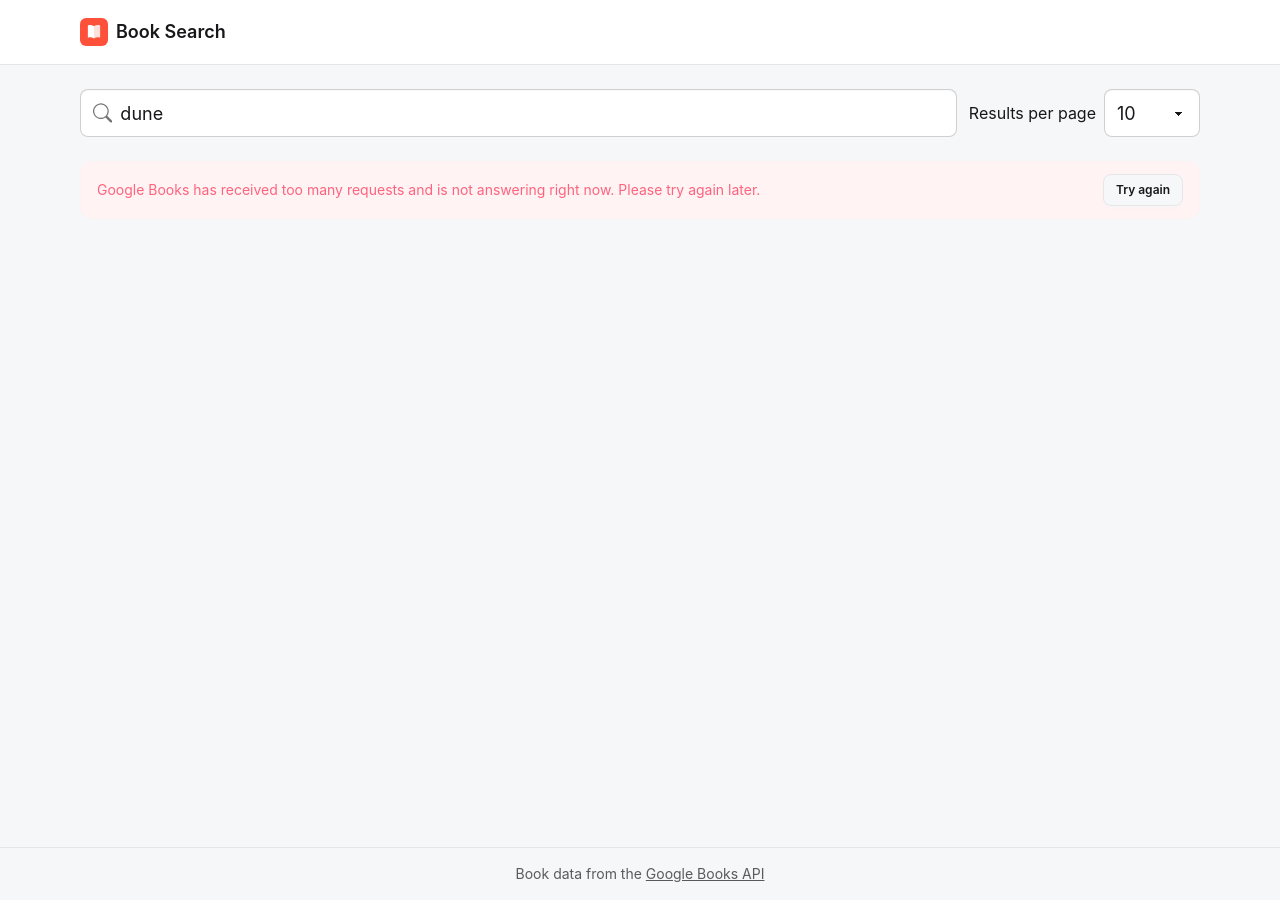
Search page › network › explains a rate limit and lets the user try again
Check: the message shows "too many requests", box [97,181,760,198]
Click the button "Try again": (1143, 190) [1103,174,1183,206]
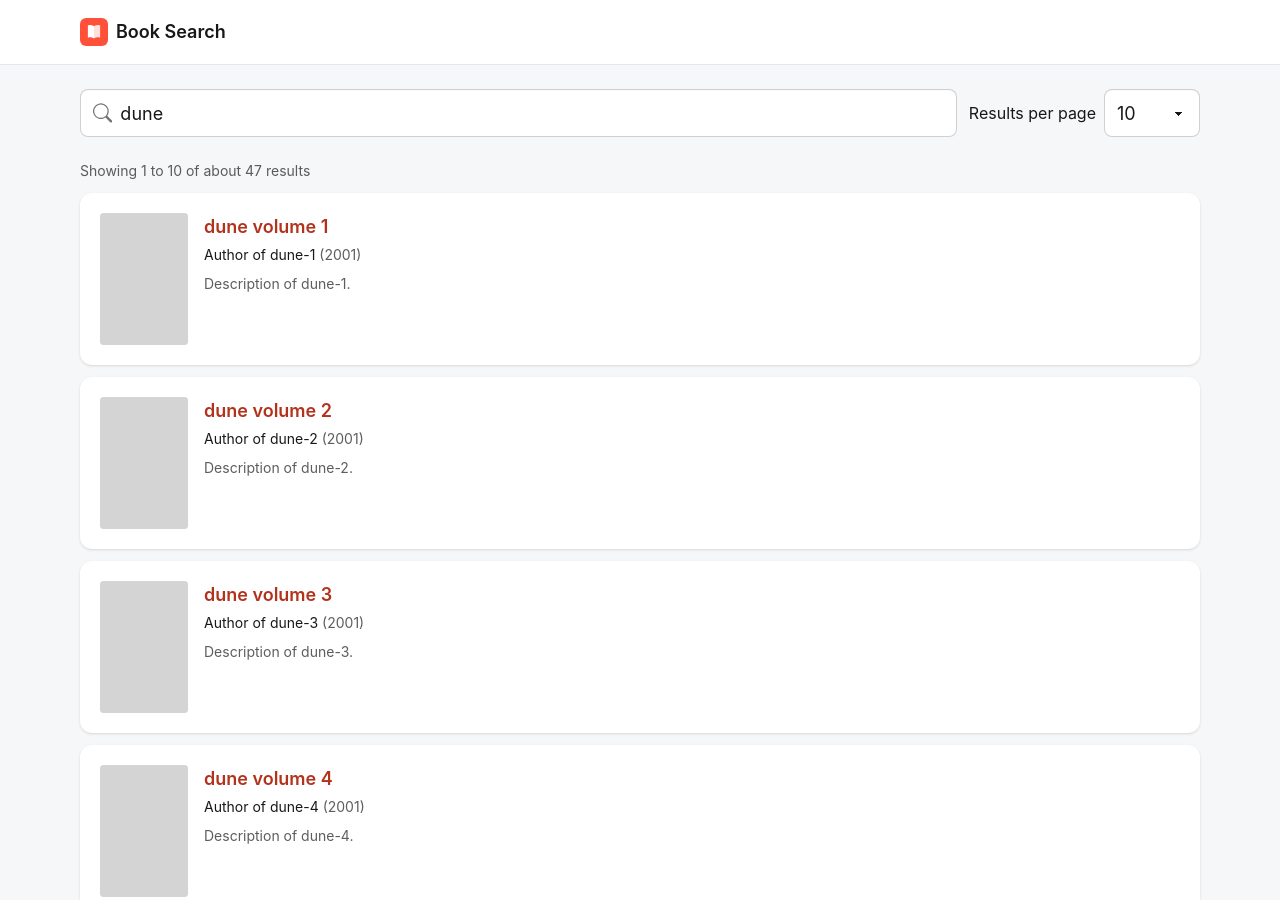
Check: the link "dune volume 1" is shown, box [204,216,328,237]
